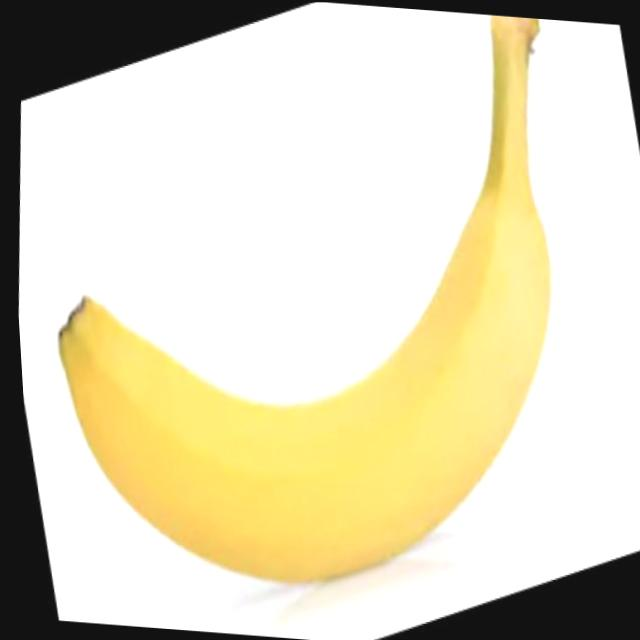Banana: (20, 0, 581, 602)
